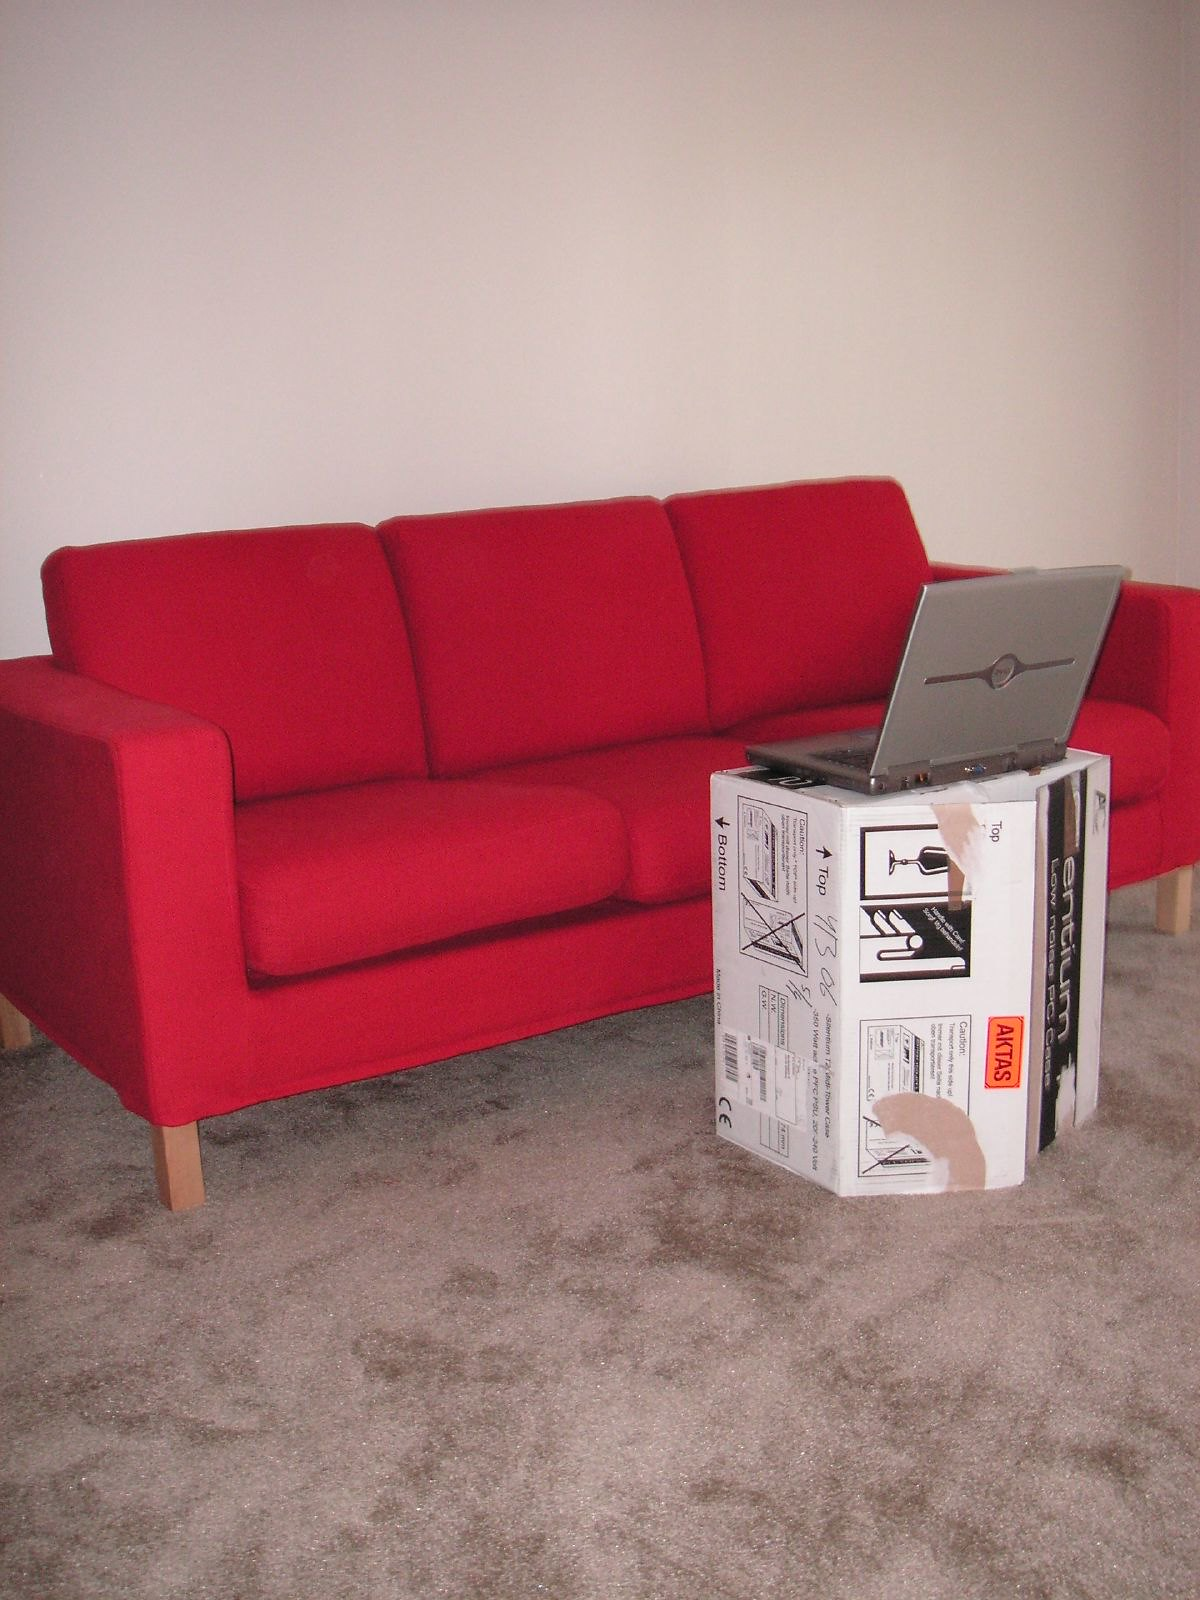sofa: (8, 495, 1200, 1120)
